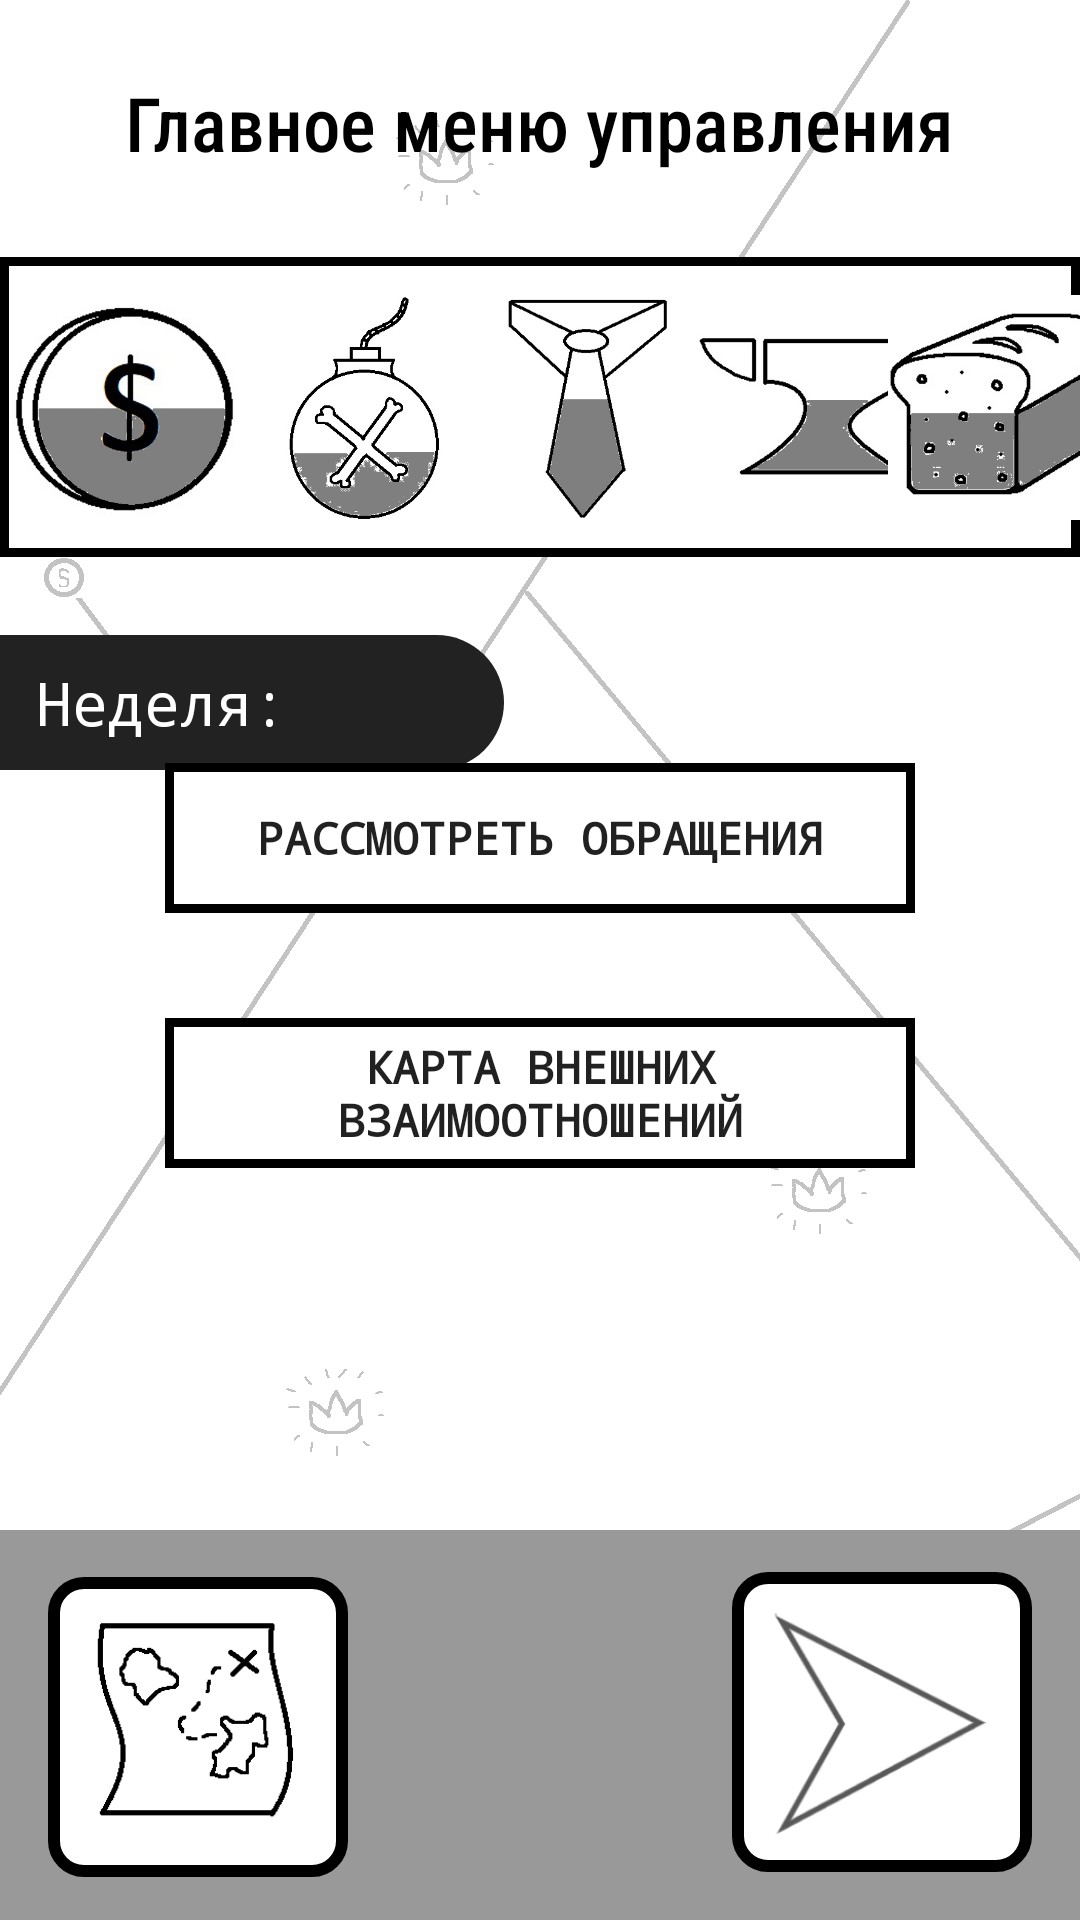

Locate icon controls on the screen. Image size 1080 x 1920, boxes as (x1, y1, x2, y2).
anvil third: (699, 338, 924, 475)
arrow: (775, 1613, 986, 1834)
bomb third: (289, 297, 439, 519)
coin third: (16, 308, 233, 511)
map: (97, 1623, 293, 1817)
tie third: (508, 300, 667, 518)
